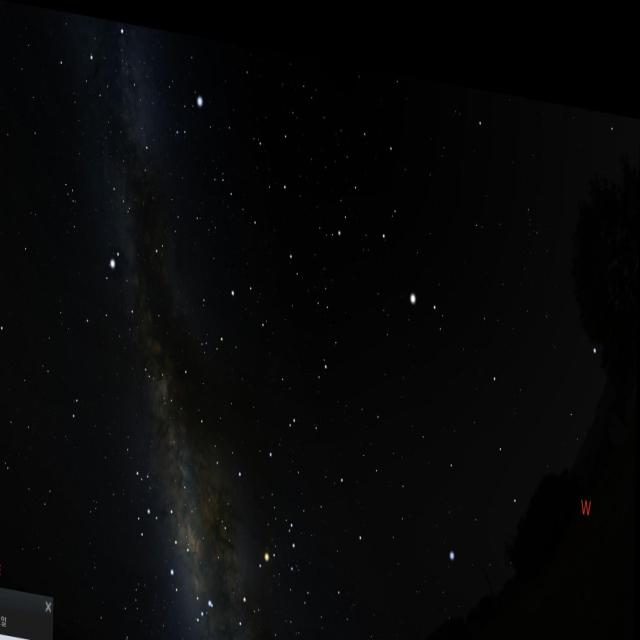aquila: (77, 219, 173, 402)
bootes: (346, 81, 448, 310)
cygnus: (78, 12, 166, 171)
lyra: (166, 77, 213, 148)
sagittarius: (109, 459, 195, 595)
scorpius: (192, 471, 319, 640)
